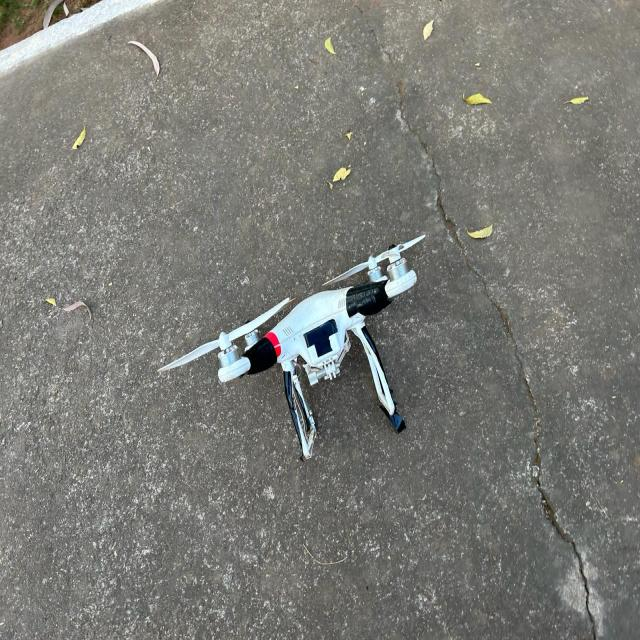drone: (126, 204, 482, 489)
